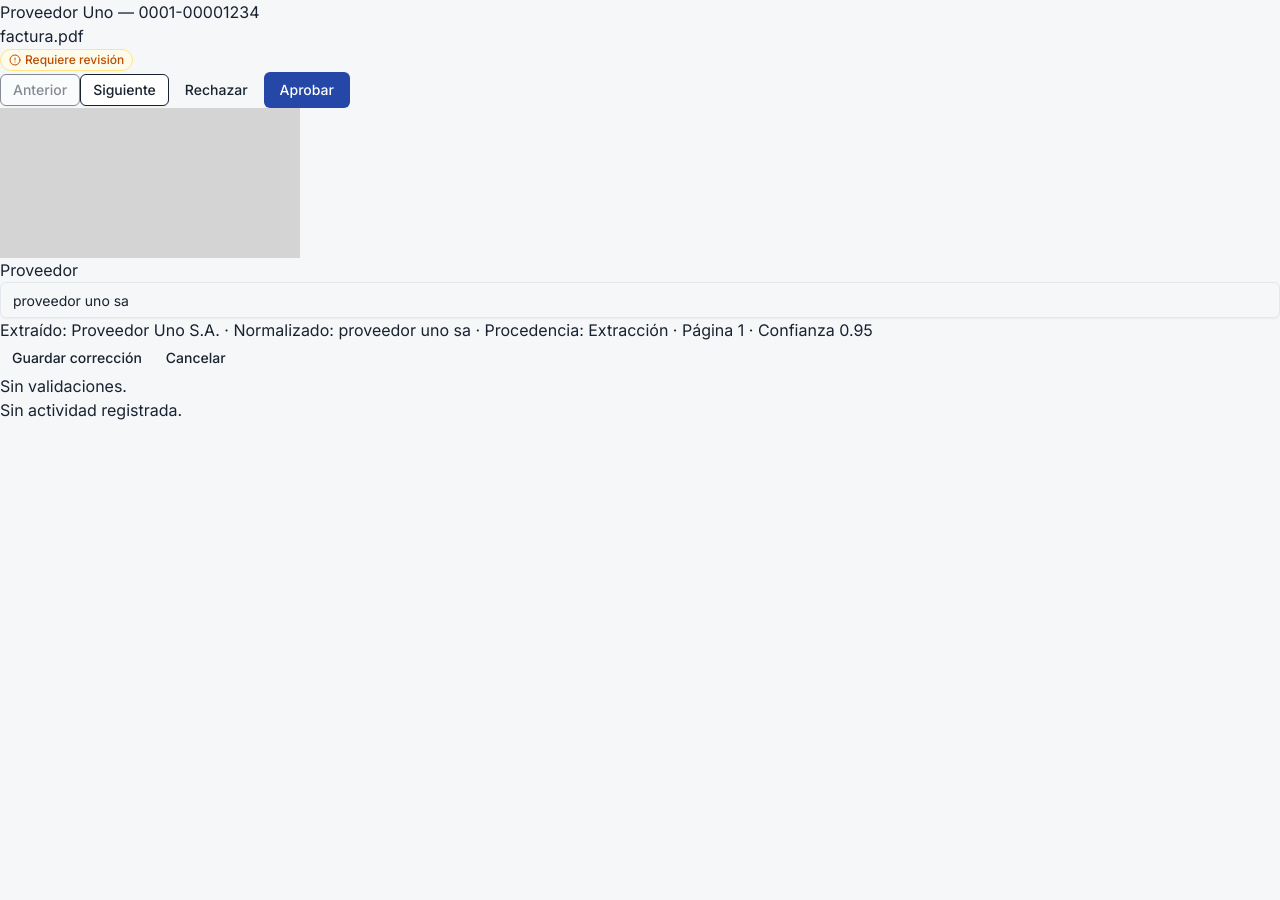
Test: ReviewPage › rechazar sin justificación no dispara (defensa en RejectDialog)
Click the button "Rechazar" at {"x": 216, "y": 90}, box [169, 72, 264, 108]
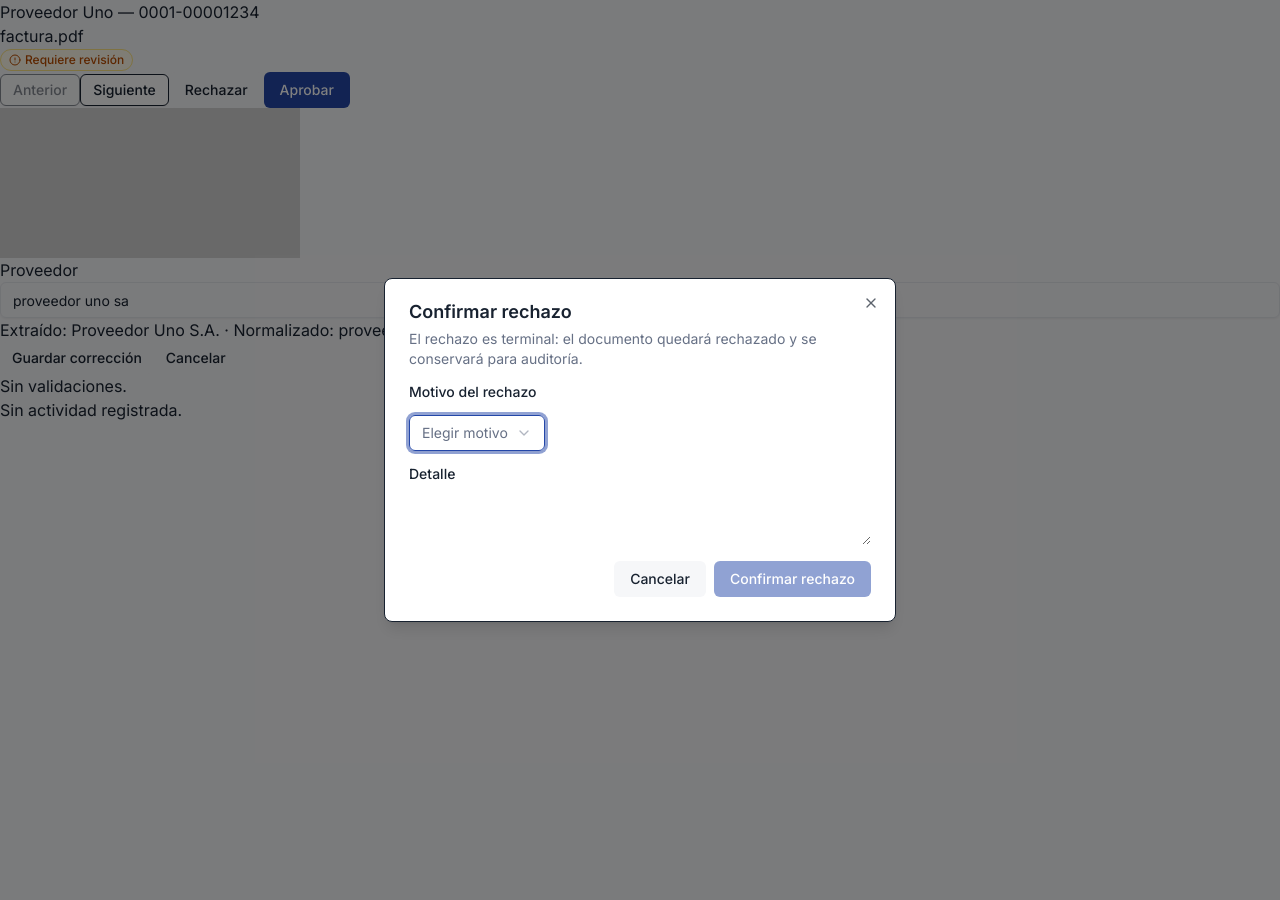
Expected: the button "Confirmar rechazo" is disabled, [714, 561, 871, 597]
